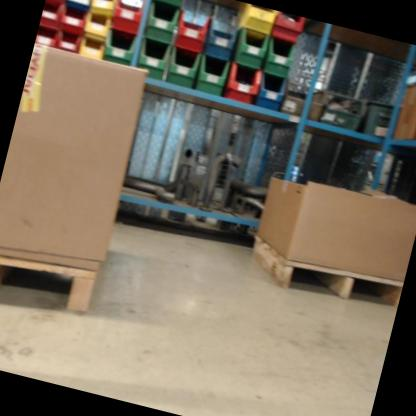pallet: (241, 234, 406, 321), (0, 245, 99, 330)
